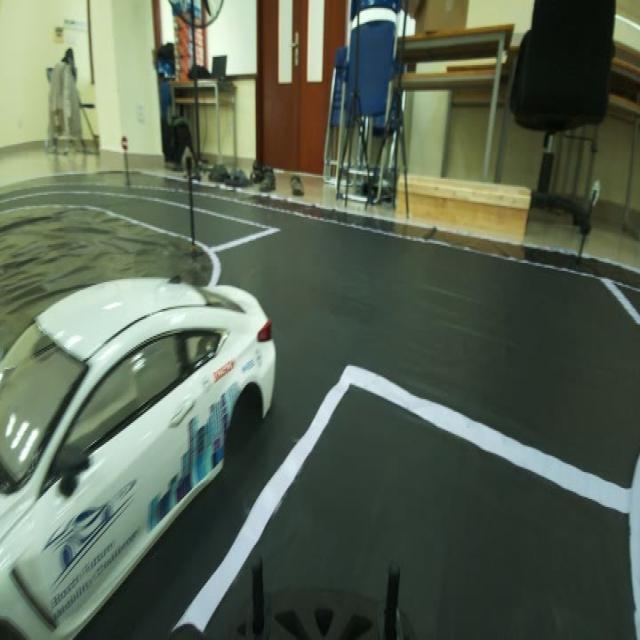car: (2, 252, 278, 589)
